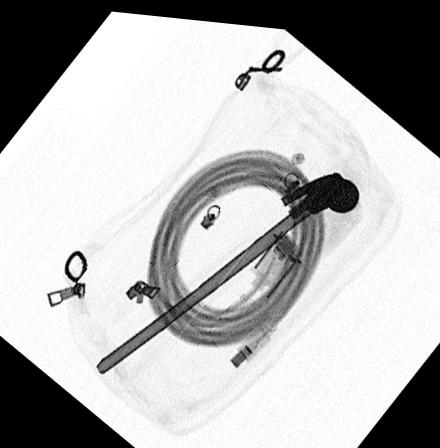Hammer: (95, 163, 360, 372)
